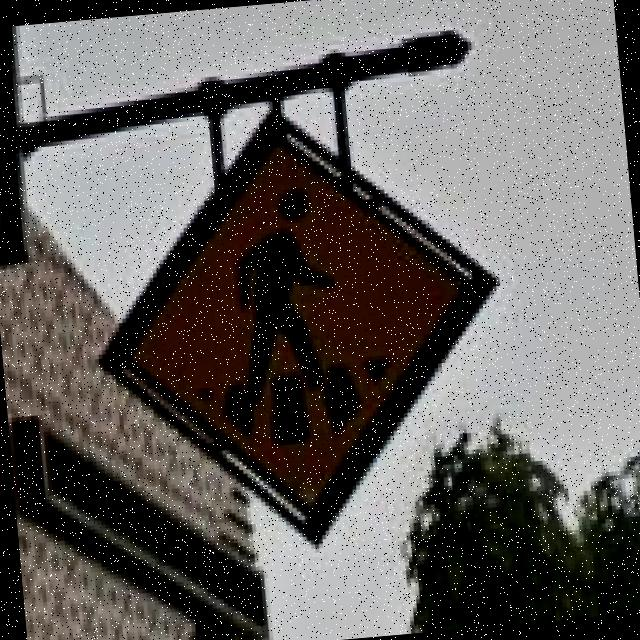Przejscie dla pieszych: (142, 124, 476, 514)
